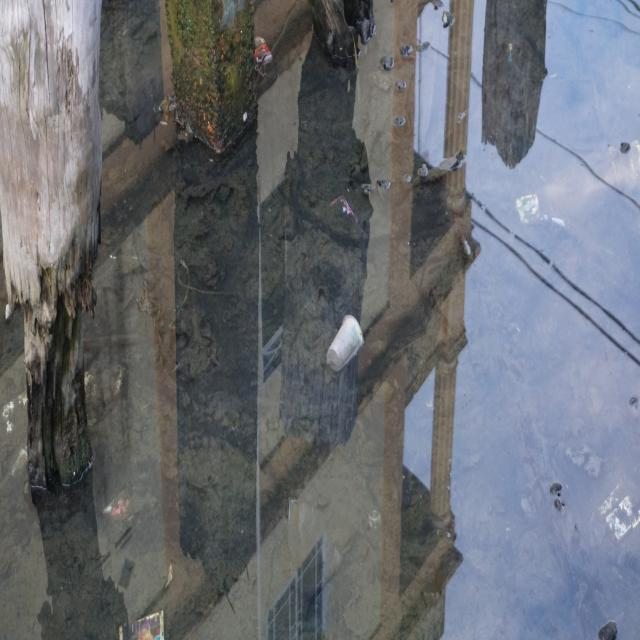Bungkus Minuman: (326, 313, 367, 375)
